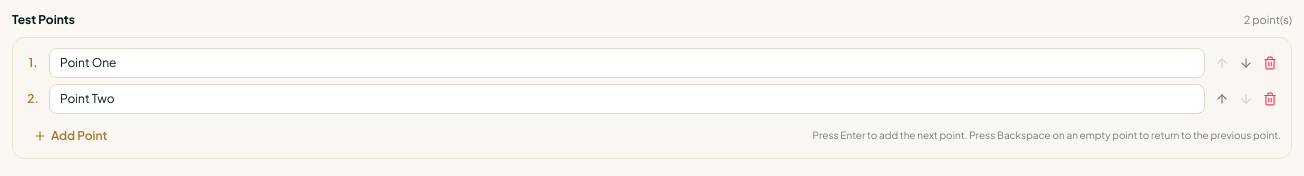
Scenario: PointListEditor Component Suite › reorders points up and down
Click the 1st button titled "Move down": (1246, 62) [1235,52,1257,74]
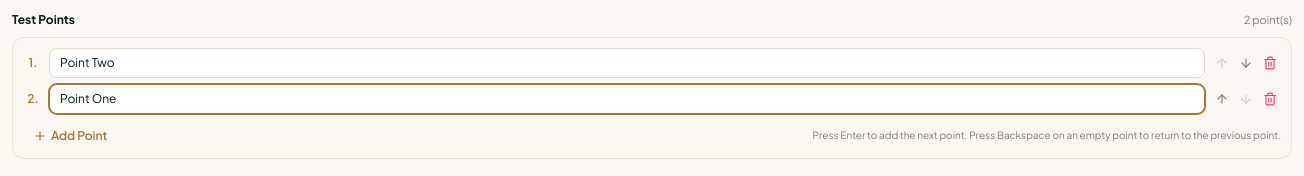
Now the 1st field holds "Point Two", box [49,48,1205,78]
Now the 2nd field holds "Point One", box [49,84,1205,114]
Click the 2nd button titled "Move up": (1222, 98) [1211,88,1233,110]
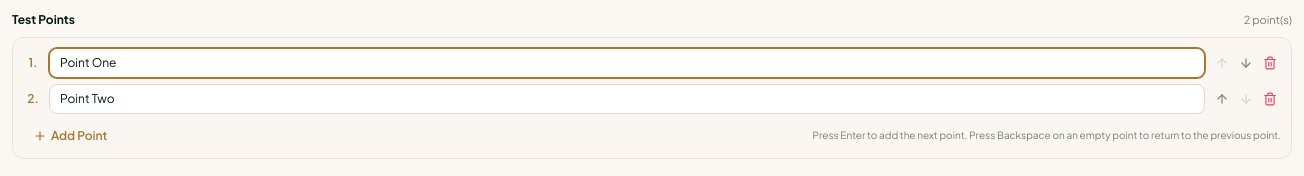
Now the 1st field holds "Point One", box [49,48,1205,78]
Now the 2nd field holds "Point Two", box [49,84,1205,114]
